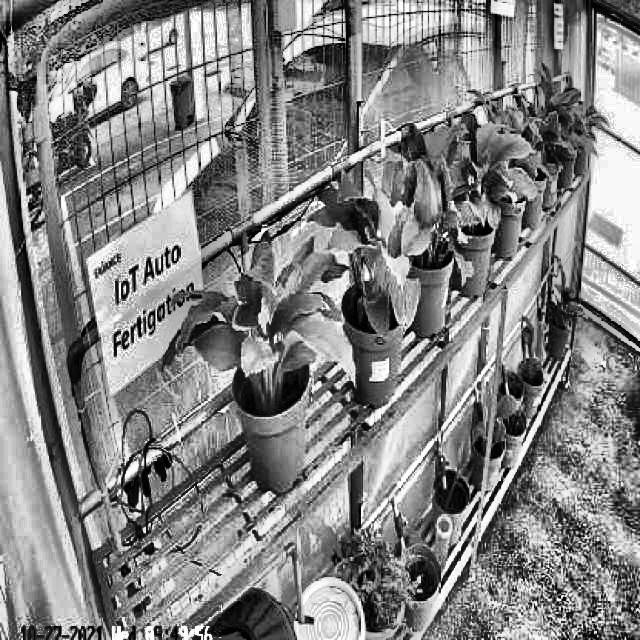plants: (162, 228, 356, 412), (312, 186, 419, 329), (416, 119, 538, 230), (378, 151, 474, 291)
